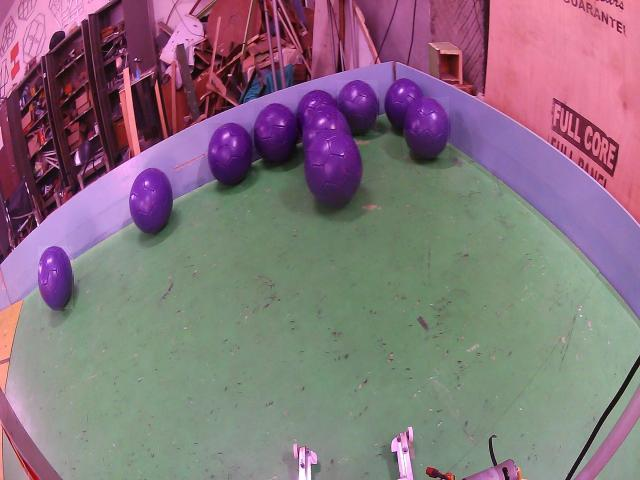jambhalya: (305, 130, 362, 206), (129, 169, 172, 233), (404, 97, 449, 158), (208, 123, 252, 185), (255, 104, 298, 163), (337, 80, 378, 135), (303, 106, 352, 151), (38, 246, 73, 309), (385, 79, 422, 129), (297, 90, 338, 130)
